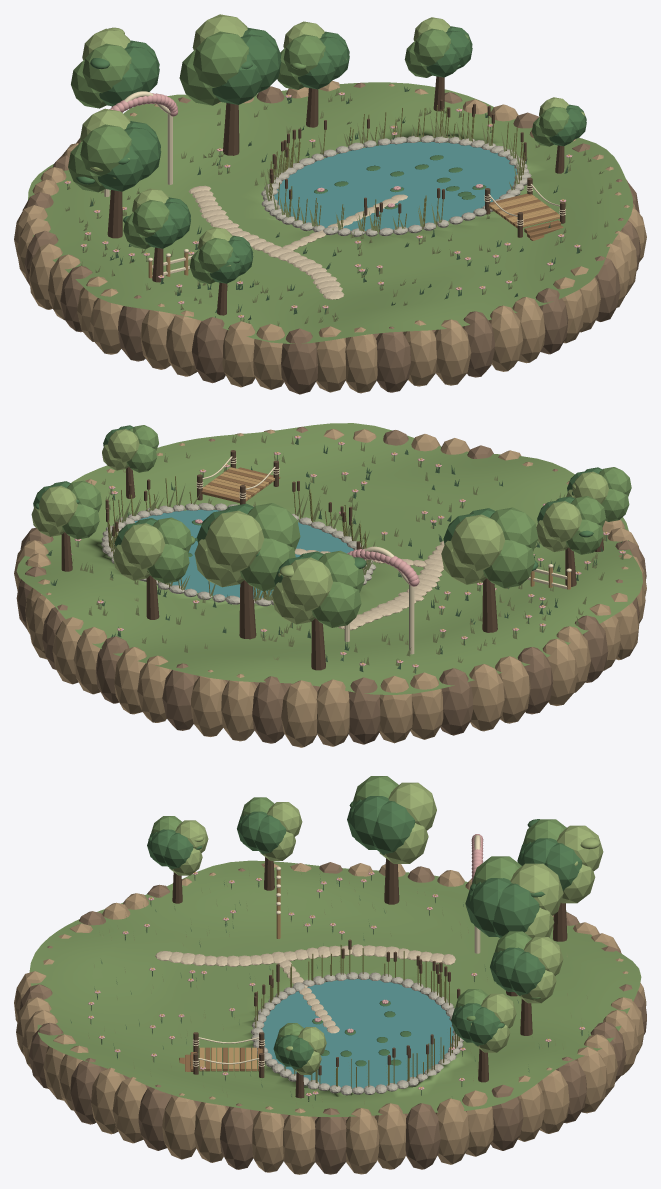
File: swanlake-BaFEH7xr.glb
3 renders of one model, top to bottom at view 1: azimuth 30°, elevation 25°; view 2: azimuth 150°, elevation 25°; view 3: azimuth 270°, elevation 25°, orthographic.
Parts seen in each view (by area): view 1: Environment_grass, Environment_cliff, Environment_leaf, Environment_earth, Environment_leafdark, Lake_surface, Environment_wooddark, Environment_leaflight, Environment_stone, Environment_grasslight, Environment_path, Environment_reed (+5 smaller); view 2: Environment_grass, Environment_cliff, Environment_leaflight, Environment_leaf, Environment_earth, Environment_wooddark, Environment_grasslight, Lake_surface, Environment_leafdark, Environment_stone, Environment_path, Environment_pink (+5 smaller); view 3: Environment_grass, Environment_cliff, Environment_leafdark, Environment_earth, Lake_surface, Environment_leaflight, Environment_leaf, Environment_wooddark, Environment_path, Environment_stone, Environment_reed, Environment_pink (+5 smaller).
Boxes of the visible parts, left/top/right/bottom form: Environment_grass: left=28, top=82, right=633, bottom=343; Environment_cliff: left=14, top=80, right=646, bottom=393; Environment_leaf: left=68, top=28, right=569, bottom=284; Environment_earth: left=22, top=82, right=640, bottom=394; Environment_leafdark: left=76, top=26, right=586, bottom=283; Lake_surface: left=274, top=142, right=517, bottom=230; Environment_wooddark: left=107, top=76, right=565, bottom=315; Environment_leaflight: left=80, top=14, right=584, bottom=266; Environment_stone: left=261, top=135, right=531, bottom=236; Environment_grasslight: left=65, top=88, right=611, bottom=326; Environment_path: left=188, top=185, right=407, bottom=299; Environment_reed: left=269, top=105, right=525, bottom=232; Environment_grass: left=16, top=423, right=642, bottom=694; Environment_cliff: left=14, top=429, right=646, bottom=747; Environment_leaflight: left=31, top=429, right=608, bottom=624; Environment_leaf: left=51, top=425, right=631, bottom=627; Environment_earth: left=16, top=427, right=646, bottom=744; Environment_wooddark: left=61, top=450, right=603, bottom=670; Environment_grasslight: left=72, top=435, right=623, bottom=673; Lake_surface: left=134, top=509, right=353, bottom=598; Environment_leafdark: left=33, top=425, right=602, bottom=586; Environment_stone: left=101, top=503, right=375, bottom=606; Environment_path: left=294, top=541, right=444, bottom=630; Environment_pink: left=71, top=435, right=625, bottom=667; Environment_grass: left=29, top=860, right=641, bottom=1117; Environment_cliff: left=14, top=863, right=646, bottom=1174; Environment_leafdark: left=147, top=796, right=582, bottom=1069; Environment_earth: left=19, top=862, right=646, bottom=1174; Lake_surface: left=262, top=979, right=454, bottom=1088; Environment_leaflight: left=169, top=782, right=603, bottom=1074; Environment_leaf: left=151, top=776, right=566, bottom=1038; Environment_wooddark: left=172, top=857, right=567, bottom=1098; Environment_path: left=155, top=944, right=455, bottom=1033; Environment_stone: left=251, top=972, right=463, bottom=1095; Environment_reed: left=255, top=944, right=459, bottom=1088; Environment_pink: left=88, top=834, right=585, bottom=1096.
Bounding box in the file's own units: 20.46 × 6.59 × 20.68.
